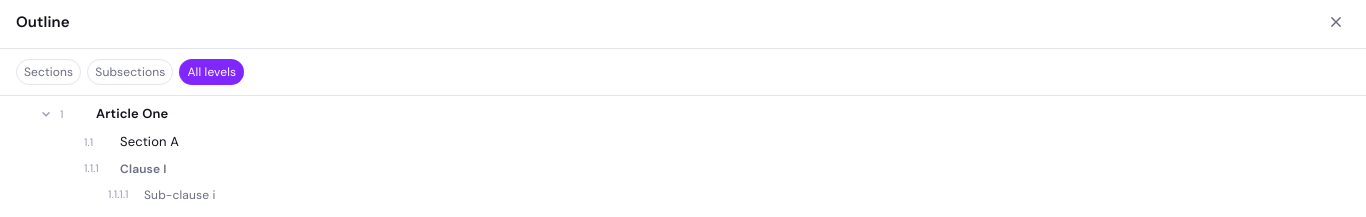
Test case: OutlineView › Subsections filter includes H3 entries
Click the button "Subsections": (130, 72) top-left (87, 59), bottom-right (174, 85)
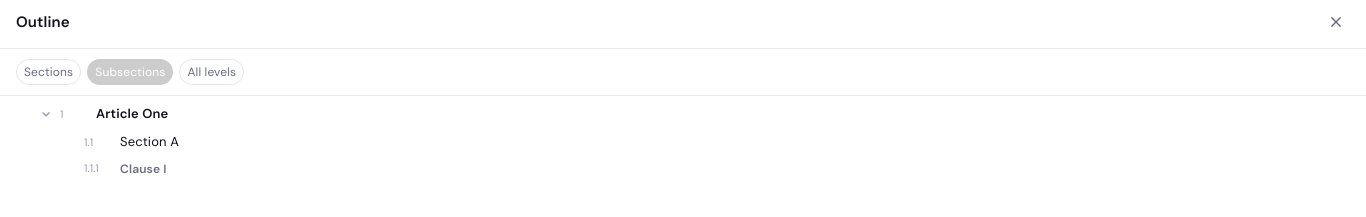
Expected: the text "Article One" is shown, top-left (96, 105), bottom-right (168, 122)
Expected: the text "Sub-clause i" is gone
